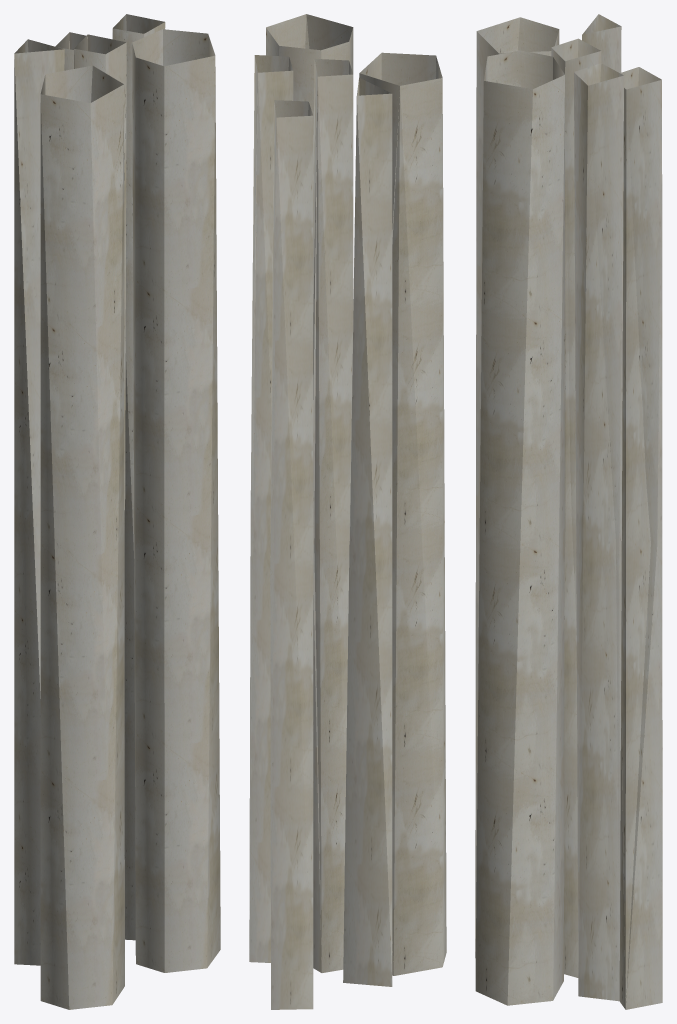
File: ind4_pipes_LOD3.fbx
3 renders of one model, left to right at view 1: azimuth 30°, elevation 25°; view 2: azimuth 150°, elevation 25°; view 3: azimuth 270°, elevation 25°, orthographic. The views are drawn at different scales.
Visible parts, largest first — view 1: Mesh Object; view 2: Mesh Object; view 3: Mesh Object.
Part boxes in pixels (bbox=[...]): Mesh Object: bbox=[14, 14, 220, 1009]; Mesh Object: bbox=[249, 14, 446, 1009]; Mesh Object: bbox=[475, 14, 662, 1009].
Bounding box in the file's own units: 4.01 × 3.71 × 20.68.
